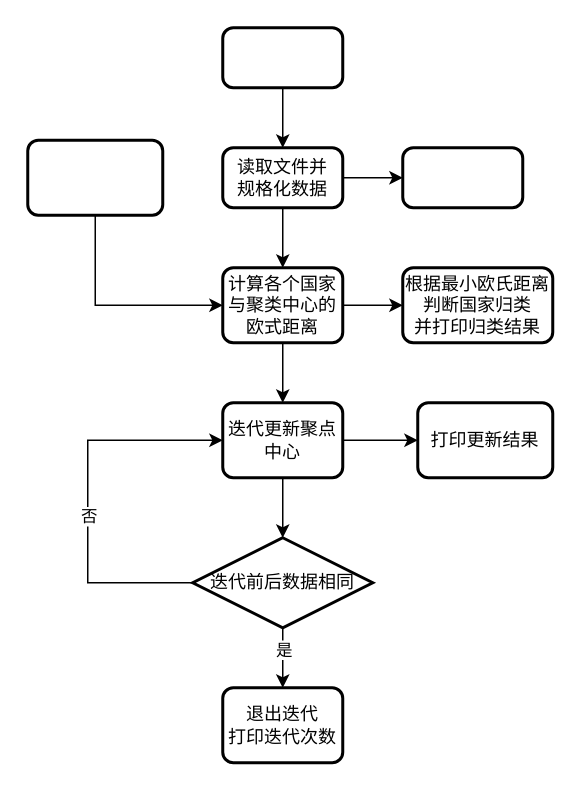
Image size: 579x789. Some labels were removed from this diagram. Here are the shapes that lost their labels. From the top down, the centre of each, then its label:
At point (282, 57): "开始运行".
At point (95, 177): "键盘输入 聚类中心数目和聚类中心国家".
At point (462, 177): "打印 规格化数据".
